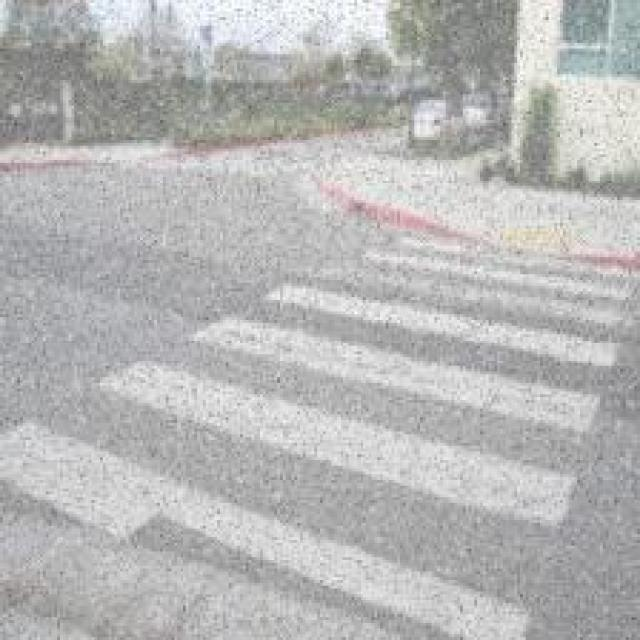crosswalk: (4, 182, 640, 640)
